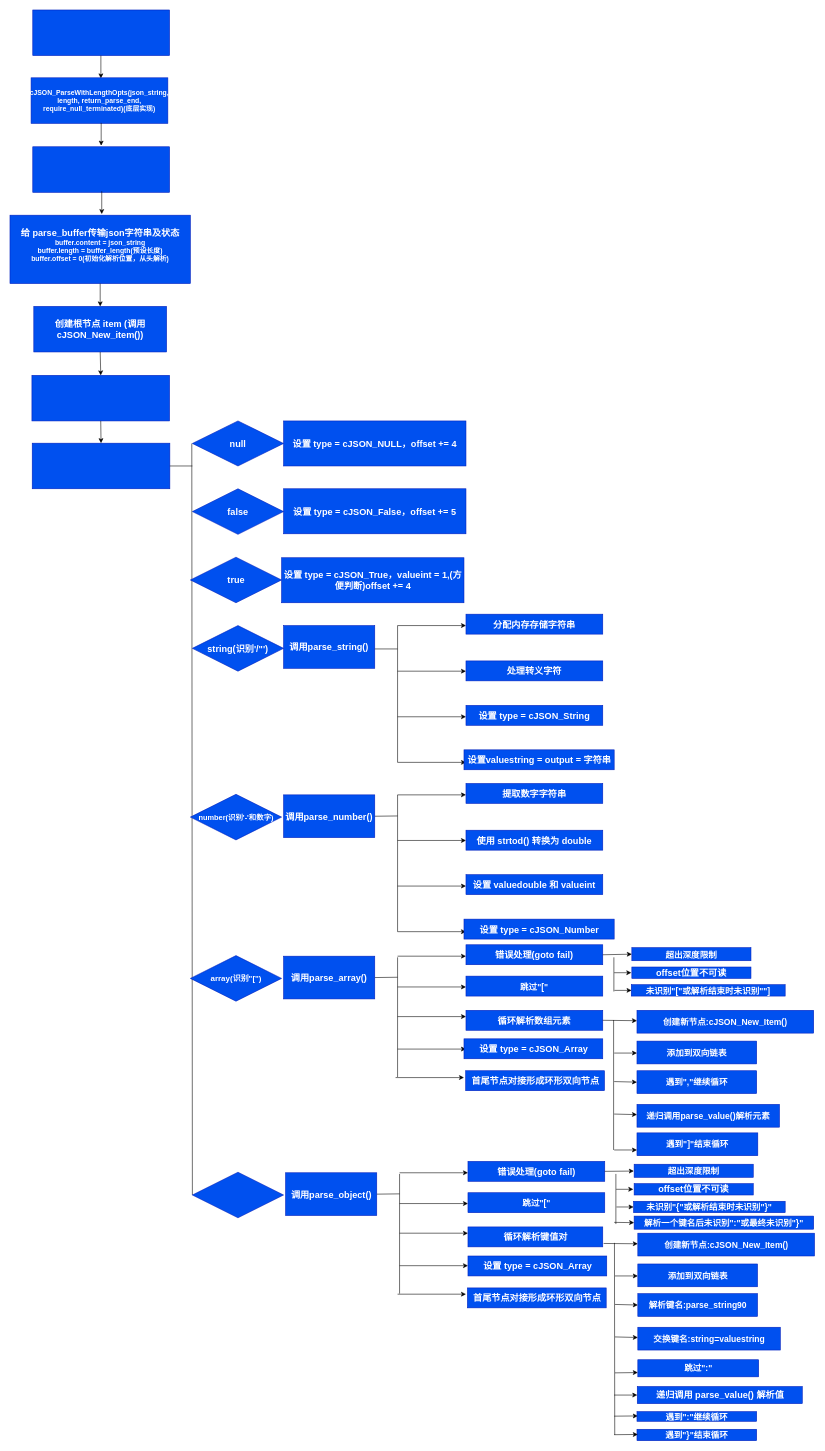
Some shapes in this 825 by 1451 pixel diagram are drawn without their labels. The shapes that lost their labels are listed below. From the top down, each one's centre as x and y in pixels, then its label:
point (101, 32): cJSON_Parse(json_string)(简易接口)
point (101, 169): 初始化 parse_buffer
point (100, 398): 跳过 UTF-8 BOM 和空白字符
point (101, 466): 调用parse_value() 判断当前字符类型
point (238, 1195): object(识别"{")
